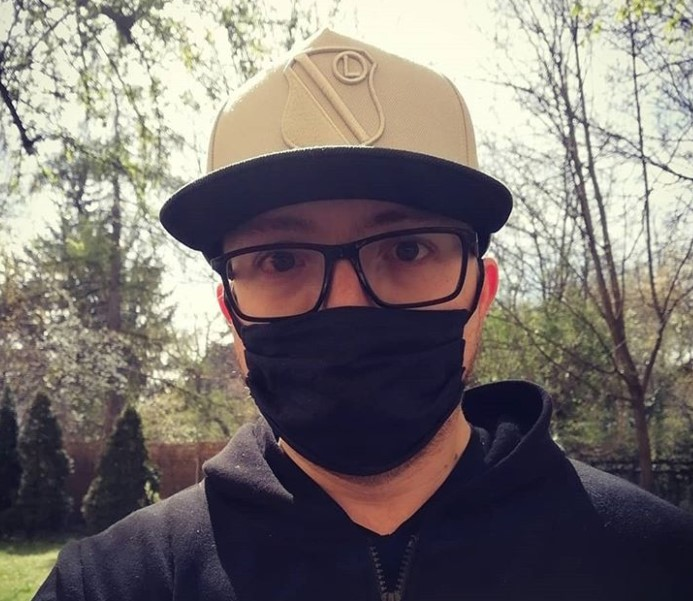face_with_mask: (192, 147, 508, 481)
